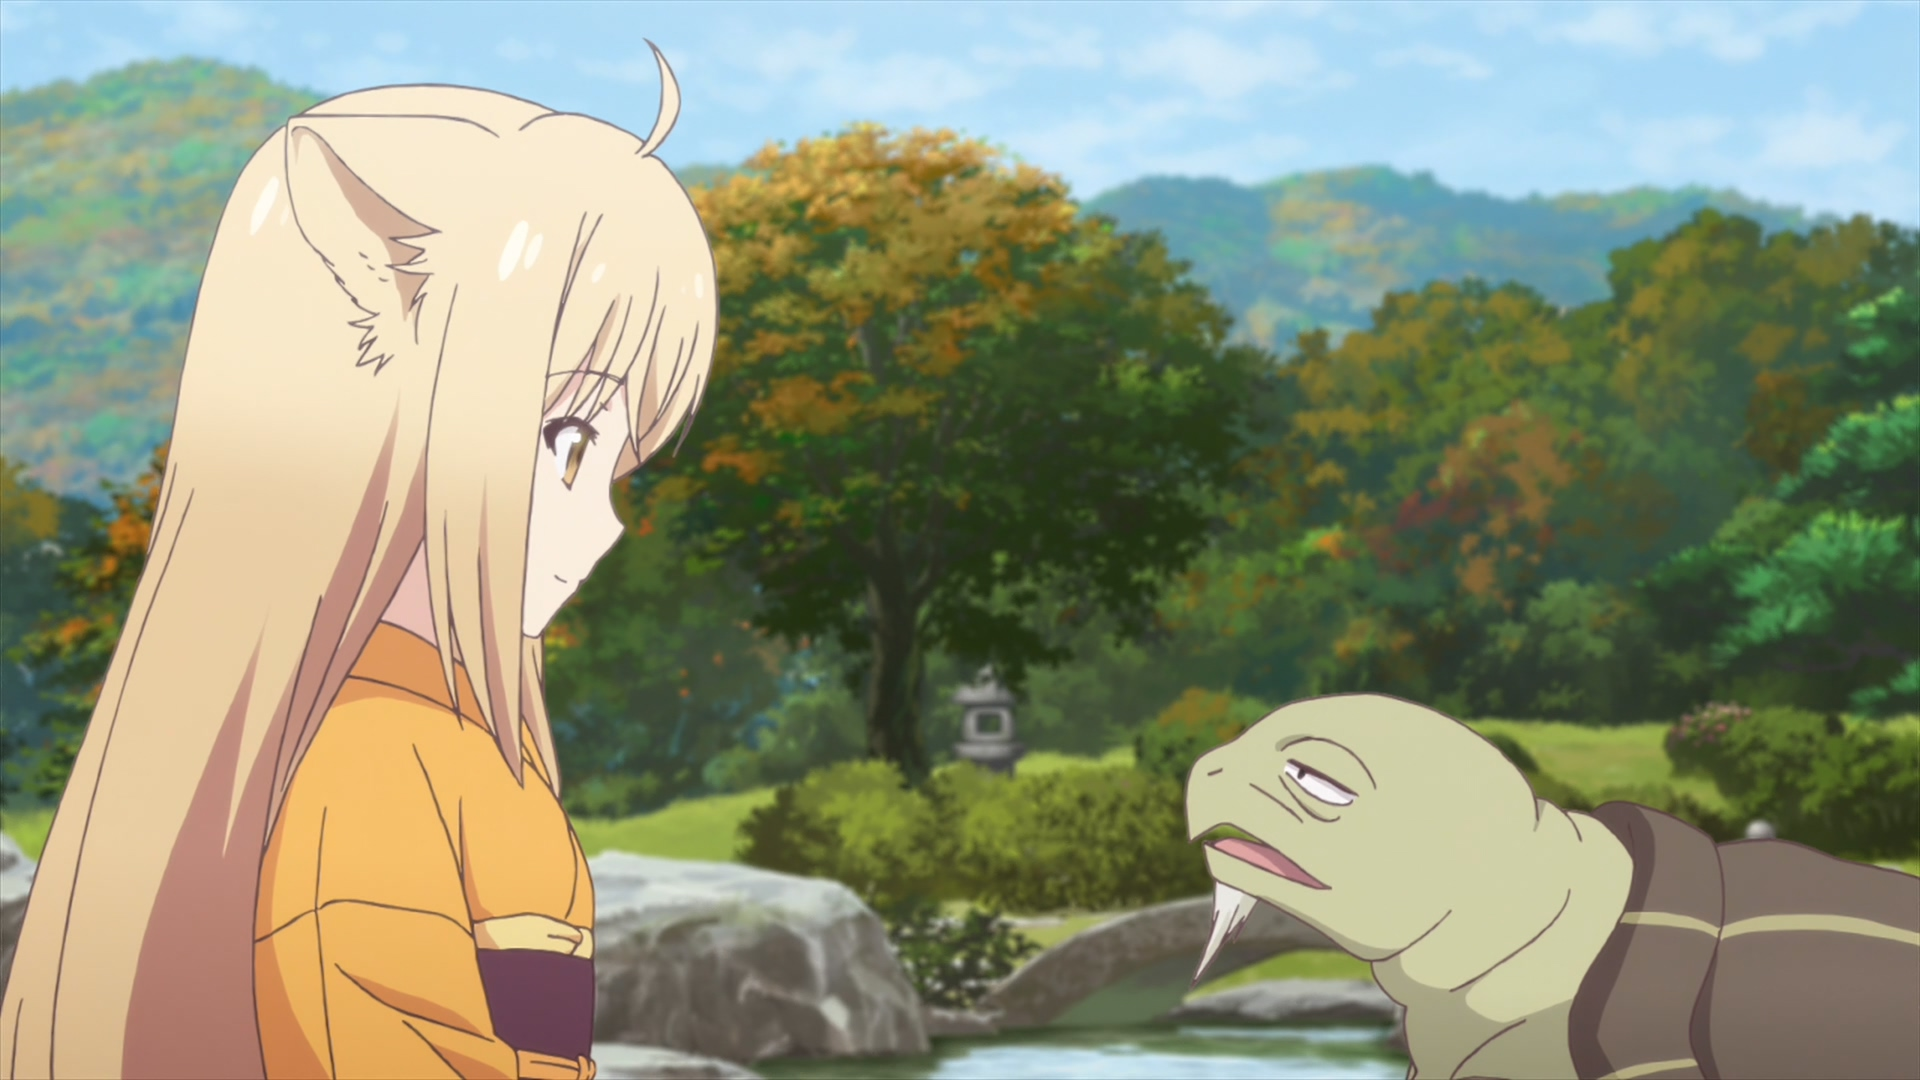其他: (1183, 691, 1920, 1080)
柚: (1, 40, 716, 1080)
